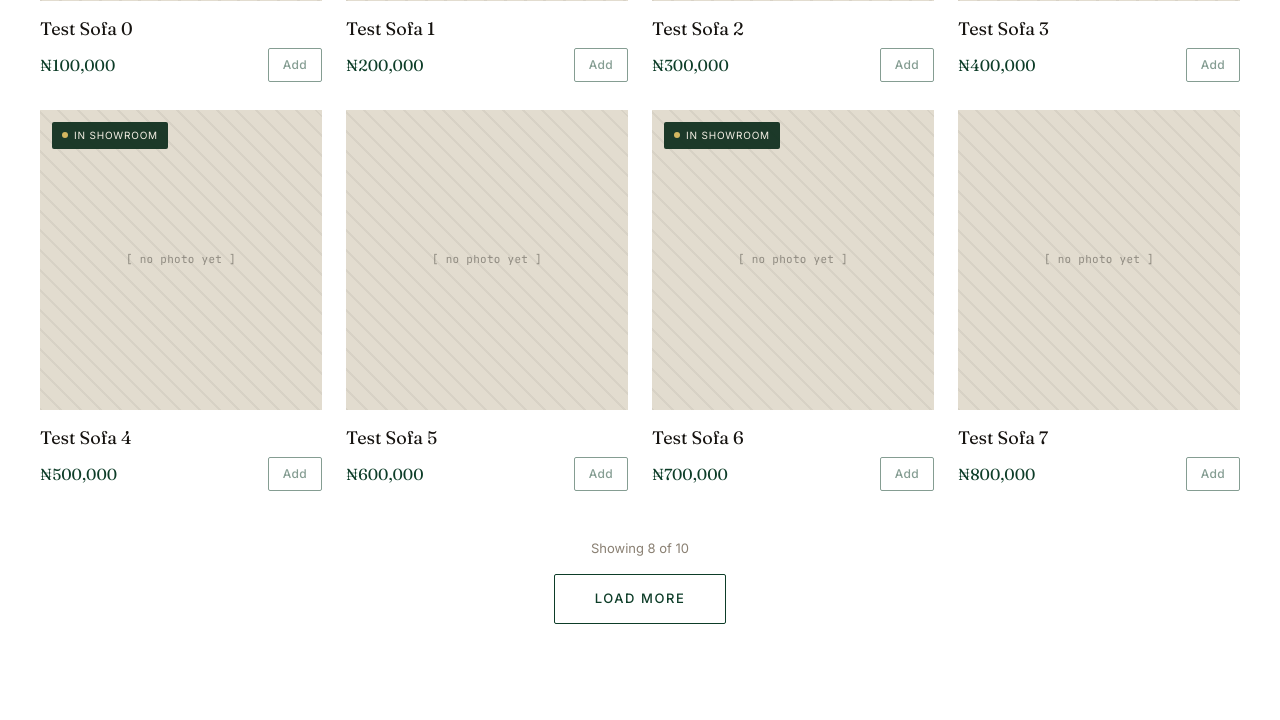
Scenario: ListingView › reveals more products in steps of 4 when Load more is clicked
(page scrolled)
Expected: the text "Showing 8 of 10" is shown, [591, 538, 689, 558]
Click the button "Load more". click: (640,599)
box: [554, 574, 726, 624]
(page scrolled)
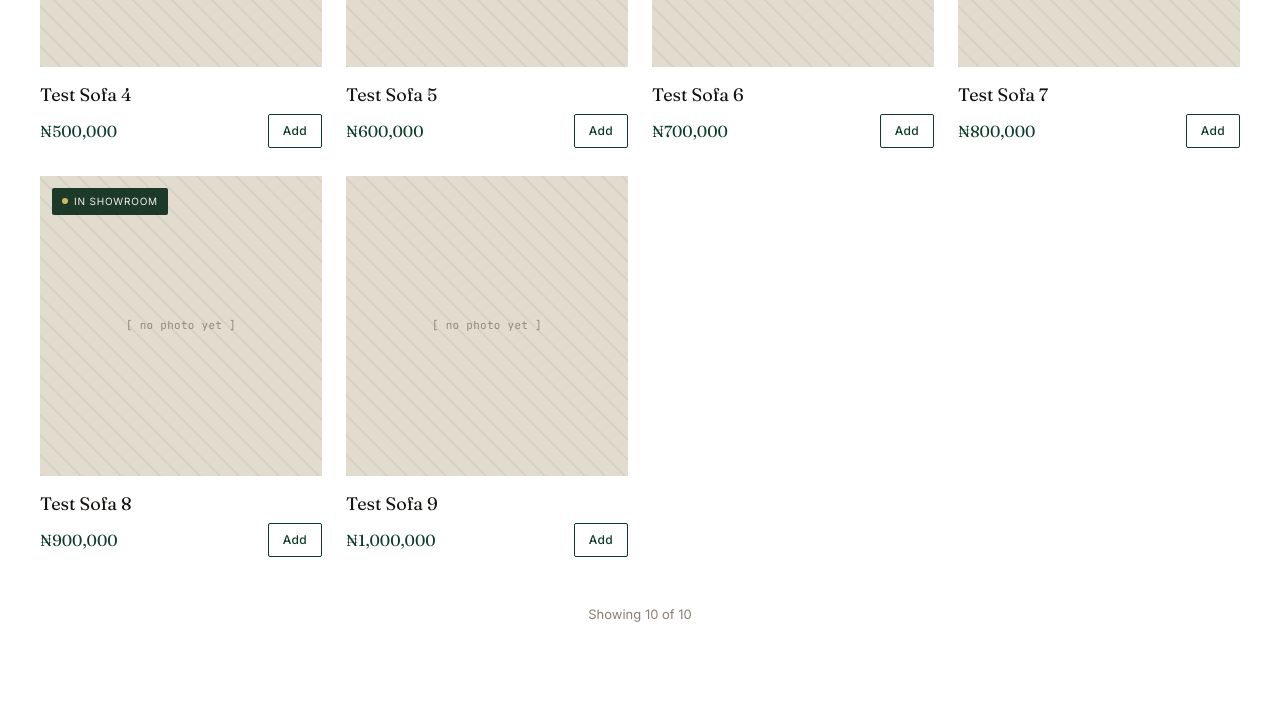
Expected: the text "Showing 10 of 10" is shown, [588, 604, 692, 624]
Expected: the button "Load more" is gone
